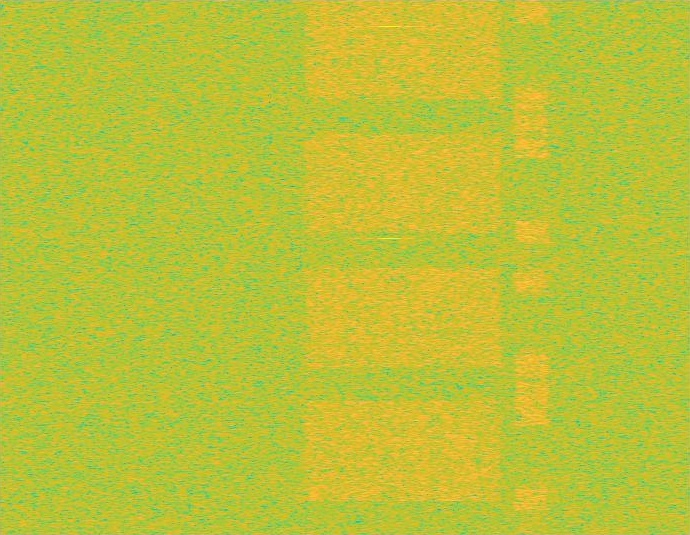5G: (300, 0, 507, 534)
LTE: (515, 0, 549, 534)
Radar: (383, 0, 397, 534)
